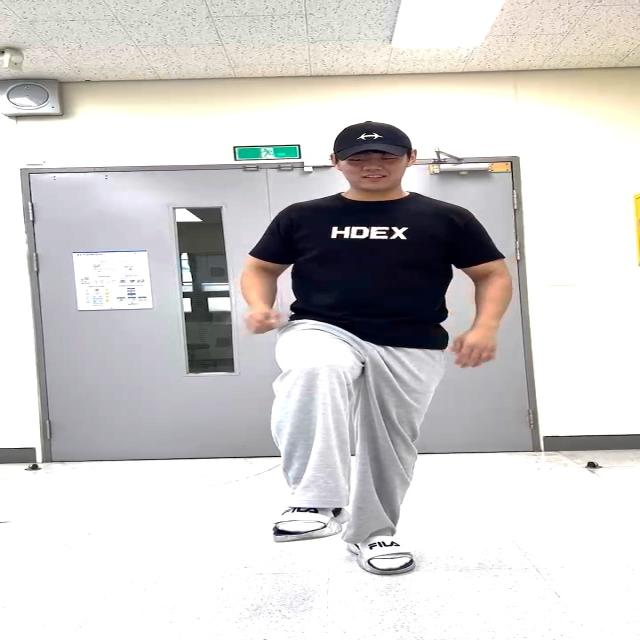leg: (254, 330, 354, 544)
